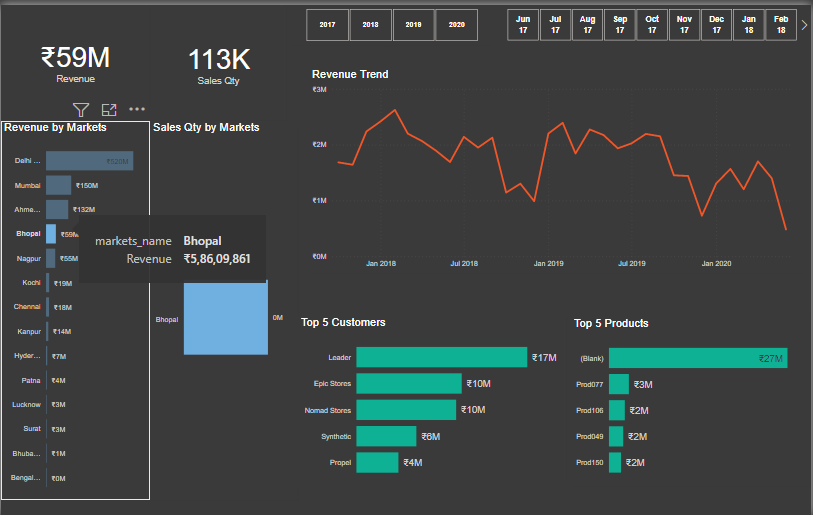

This screenshot's page, from the dashboard's own definition file:
{"tool":"powerbi","page":{"name":"Key Insights","canvas":[1350,850],"ordinal":0},"visuals":[{"type":"card","fields":{"Values":["BaseMeasures (2).Revenue"]},"box":[0,0,247.9,184.6],"z":0},{"type":"card","fields":{"Values":["BaseMeasures (2).Sales Qty"]},"box":[247.9,0,227.9,193.1],"z":1000},{"type":"barChart","title":"Revenue by Markets","fields":{"Y":["BaseMeasures (2).Revenue"],"Category":["sales markets.markets_name"]},"box":[0,193.1,247.9,631.9],"z":2000},{"type":"barChart","title":"Sales Qty by Markets","fields":{"Y":["BaseMeasures (2).Sales Qty"],"Category":["sales markets.markets_name"]},"box":[247.9,193.1,247.9,631.9],"z":3000},{"type":"slicer","fields":{"Values":["sales date.year"]},"box":[483.3,0,335,66.7],"z":4000},{"type":"slicer","fields":{"Values":["sales date.cy_date"]},"box":[818.6,0,531.7,66.5],"z":5000},{"type":"barChart","title":"Top 5 Customers","fields":{"Y":["BaseMeasures (2).Revenue"],"Category":["sales customers.custmer_name"]},"box":[495,518.3,446.7,285],"z":6000},{"type":"barChart","title":"Top 5 Products","fields":{"Y":["BaseMeasures (2).Revenue"],"Category":["sales products.product_code"]},"box":[950.7,519.2,399.5,282.8],"z":7000},{"type":"lineChart","title":"Revenue Trend","fields":{"Y":["BaseMeasures (2).Revenue"],"Category":["sales date.cy_date"]},"box":[513.3,105,825,341.7],"z":8000}]}

Visuals, with their boxes in screenshot pixels (x1, y1, x2, y2), scaled from the page's 1350x850 canvas onto the 813x515 screenshot:
card - BaseMeasures (2).Revenue: 0 0 149 112
card - BaseMeasures (2).Sales Qty: 149 0 287 117
"Revenue by Markets" barChart: 0 117 149 500
"Sales Qty by Markets" barChart: 149 117 299 500
slicer - sales date.year: 291 0 493 40
slicer - sales date.cy_date: 493 0 812 40
"Top 5 Customers" barChart: 298 314 567 487
"Top 5 Products" barChart: 573 315 812 486
"Revenue Trend" lineChart: 309 64 806 271
